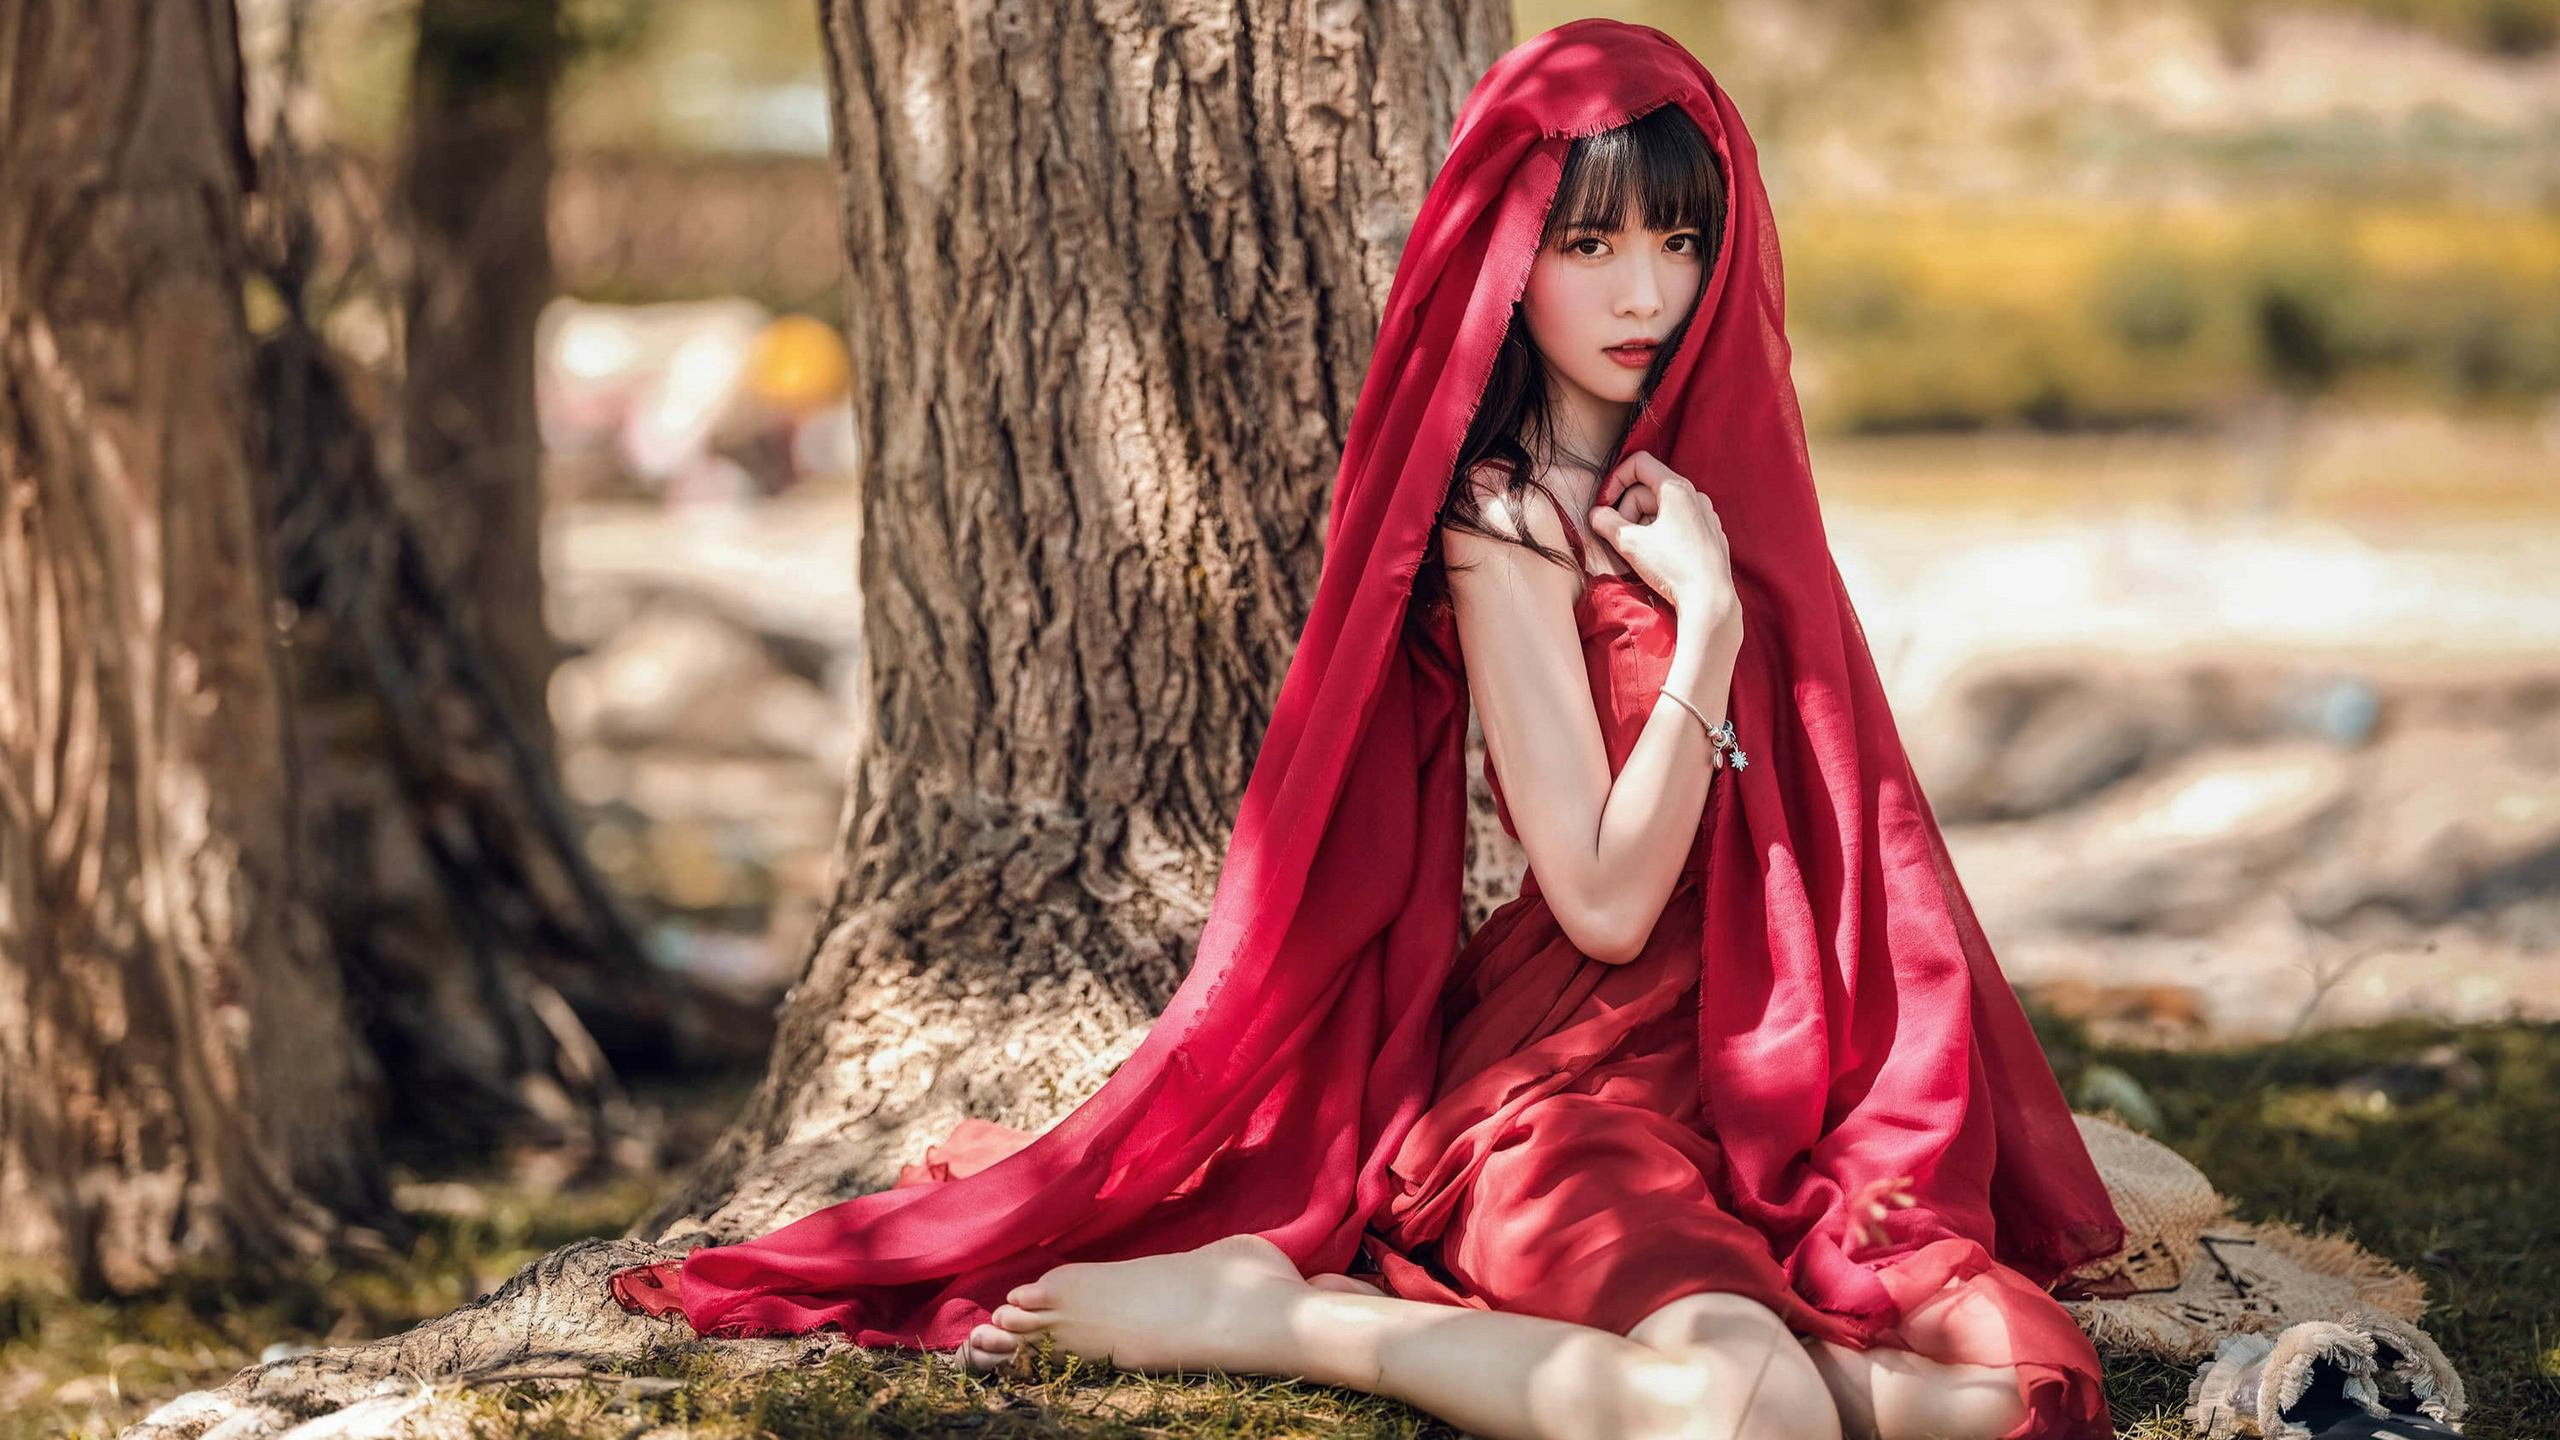person: (1320, 36, 2209, 1212)
